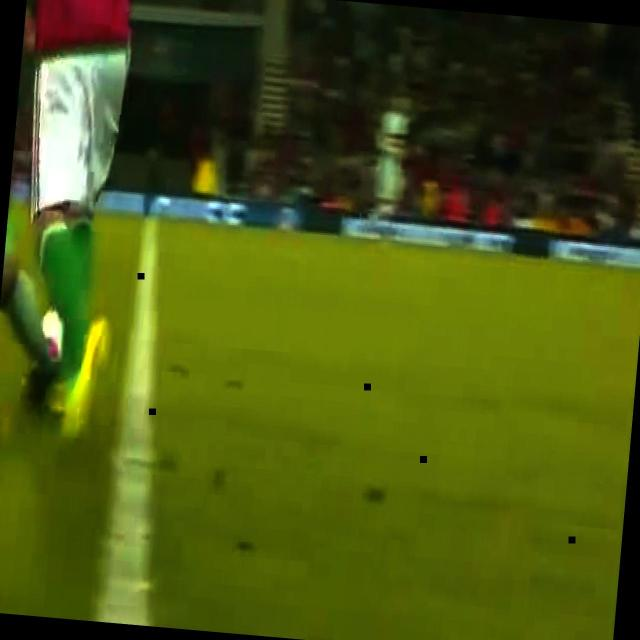player-white: (0, 0, 188, 444), (0, 0, 91, 432), (4, 0, 38, 254)
